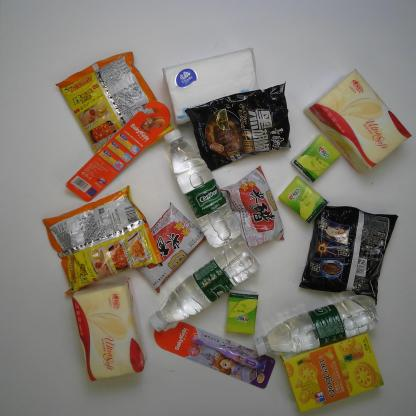Dessert: (285, 332, 384, 413)
Drink: (146, 237, 262, 334), (163, 125, 239, 248), (252, 294, 379, 357)
Instant Noodles: (44, 186, 160, 291), (54, 51, 171, 152), (296, 201, 398, 301), (186, 82, 292, 168)
Personal Hygiene: (64, 99, 174, 199), (150, 310, 283, 391)
Seasoner: (131, 206, 204, 292), (226, 164, 288, 253)
Tissue: (312, 65, 414, 179), (162, 45, 268, 125), (70, 282, 145, 384), (277, 172, 329, 222), (297, 134, 339, 180), (225, 289, 258, 333)
